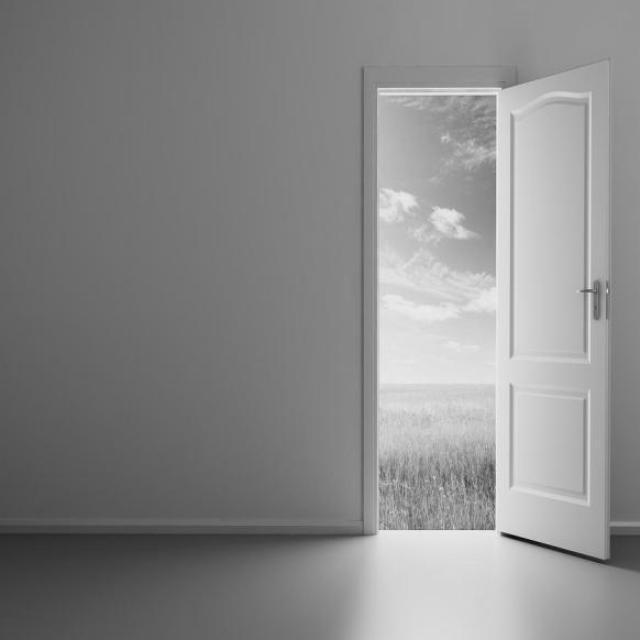door: (493, 57, 612, 561)
